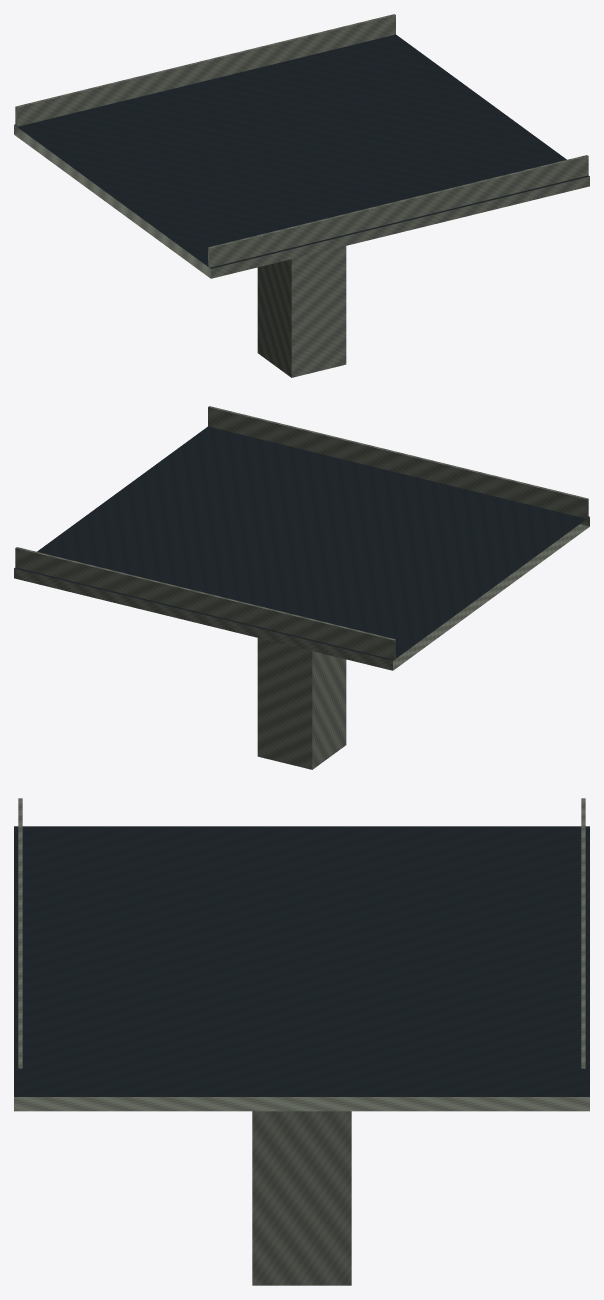
The model's file is elevated_viaduct_4lane_16m_ShadowProxy.glb.
The picture shows the model from 3 angles, top to bottom: view 1: azimuth 30°, elevation 25°; view 2: azimuth 150°, elevation 25°; view 3: azimuth 270°, elevation 25°; orthographic projection. The views are drawn at different scales.
Visible parts, largest first — view 1: elevated_viaduct_4lane_16m__deck.003, elevated_viaduct_4lane_16m__pier.003; view 2: elevated_viaduct_4lane_16m__deck.003, elevated_viaduct_4lane_16m__pier.003; view 3: elevated_viaduct_4lane_16m__deck.003, elevated_viaduct_4lane_16m__pier.003.
Boxes of the visible parts, x1=… form: elevated_viaduct_4lane_16m__deck.003: x1=14, y1=14, x2=589, y2=278; elevated_viaduct_4lane_16m__pier.003: x1=257, y1=246, x2=346, y2=377; elevated_viaduct_4lane_16m__deck.003: x1=14, y1=406, x2=589, y2=670; elevated_viaduct_4lane_16m__pier.003: x1=257, y1=638, x2=346, y2=769; elevated_viaduct_4lane_16m__deck.003: x1=14, y1=798, x2=589, y2=1111; elevated_viaduct_4lane_16m__pier.003: x1=252, y1=1111, x2=351, y2=1285.
Size of the model in its own units: 16 by 9.18 by 14.4.
Materials: 2 (2 with a texture image).
